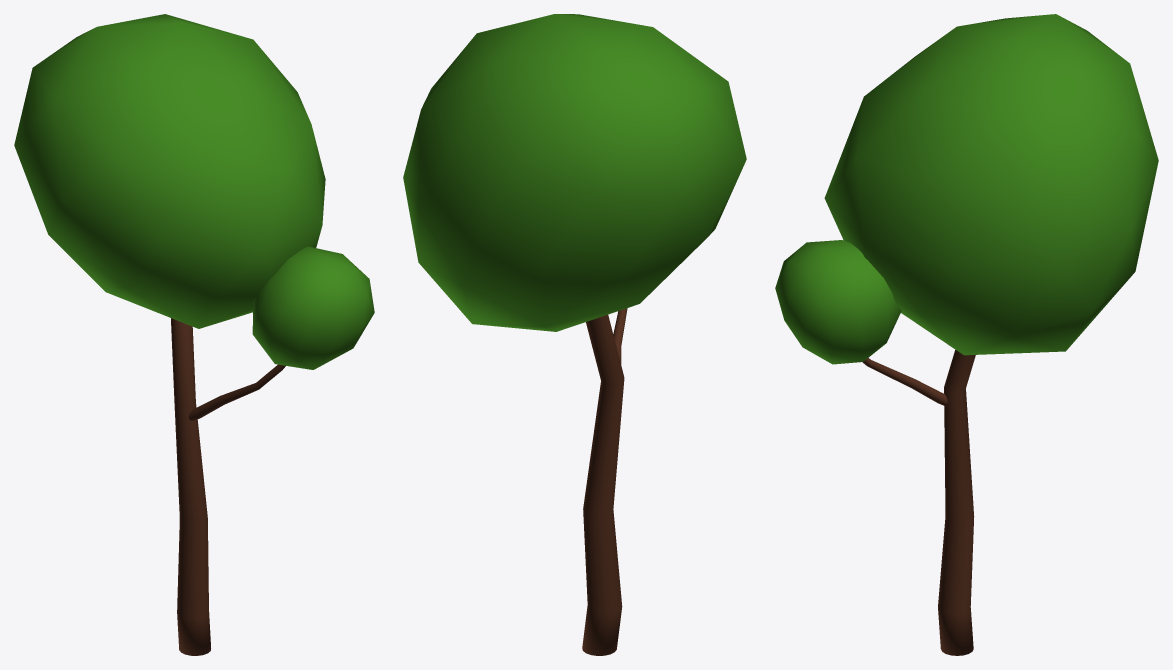
The model's file is drzewo2.fbx.
The picture shows the model from 3 angles, left to right: view 1: azimuth 30°, elevation 25°; view 2: azimuth 150°, elevation 25°; view 3: azimuth 270°, elevation 25°; orthographic projection. The views are drawn at different scales.
Visible parts, largest first — view 1: drzewo2; view 2: drzewo2; view 3: drzewo2.
Part boxes in pixels (box(x1,y1,x2,y2)): drzewo2: box(14, 14, 374, 655); drzewo2: box(403, 14, 746, 655); drzewo2: box(775, 14, 1158, 655).
Size of the model in its own units: 160 by 346 by 196.
